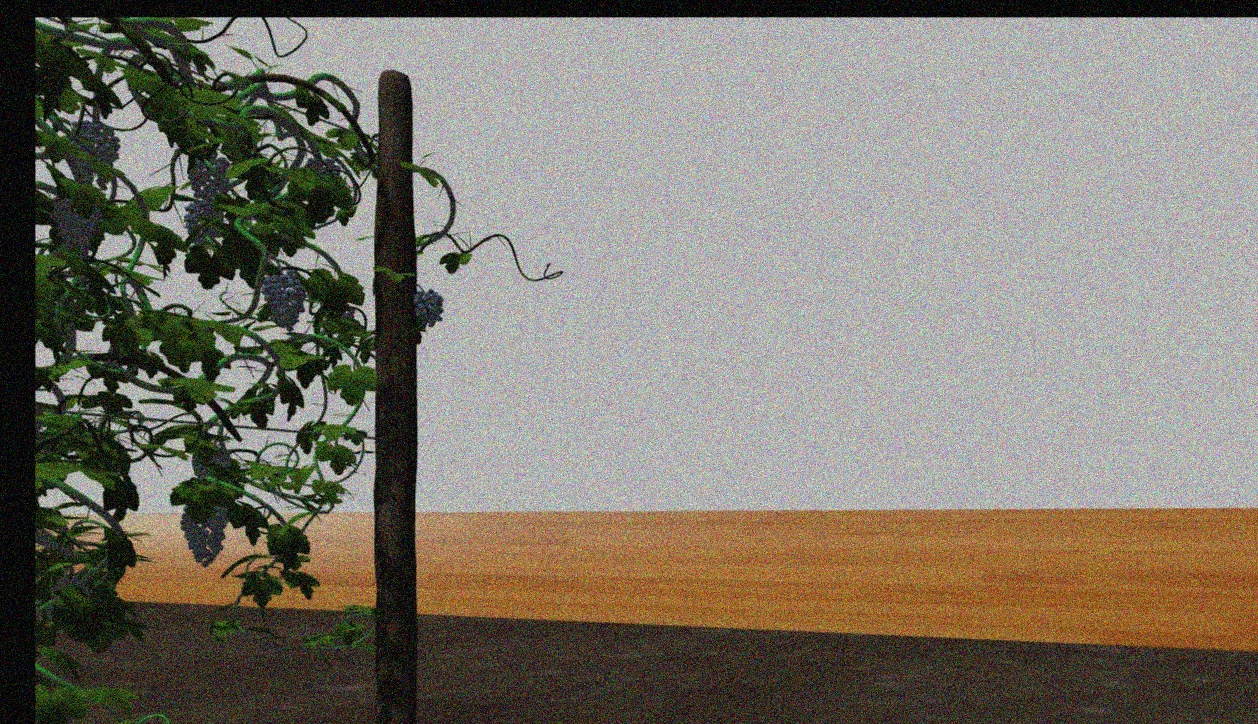grape: (50, 188, 104, 260), (178, 497, 228, 568), (64, 124, 120, 187), (260, 265, 306, 332), (182, 201, 226, 246), (187, 157, 230, 202), (412, 287, 445, 323)
